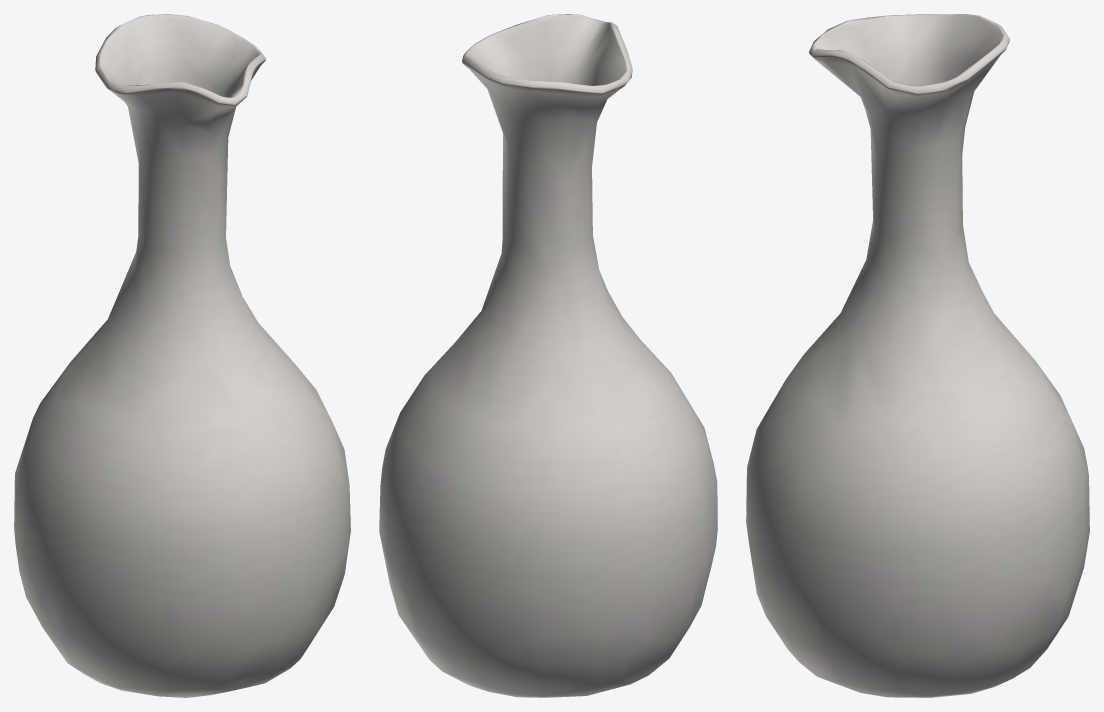
File: ceramic_vase_01.lod1.glb
The picture shows the model from 3 angles, left to right: view 1: azimuth 30°, elevation 25°; view 2: azimuth 150°, elevation 25°; view 3: azimuth 270°, elevation 25°; orthographic projection. The views are drawn at different scales.
Parts seen in each view (by area): view 1: ceramic_vase_01; view 2: ceramic_vase_01; view 3: ceramic_vase_01.
Boxes of the visible parts, x1,y1,x2,y2 form: ceramic_vase_01: (14,14,350,697); ceramic_vase_01: (379,14,717,697); ceramic_vase_01: (746,14,1089,697).
Bounding box in the file's own units: 0.2011 × 0.4002 × 0.2018.
Materials: 1 (1 with a texture image).
